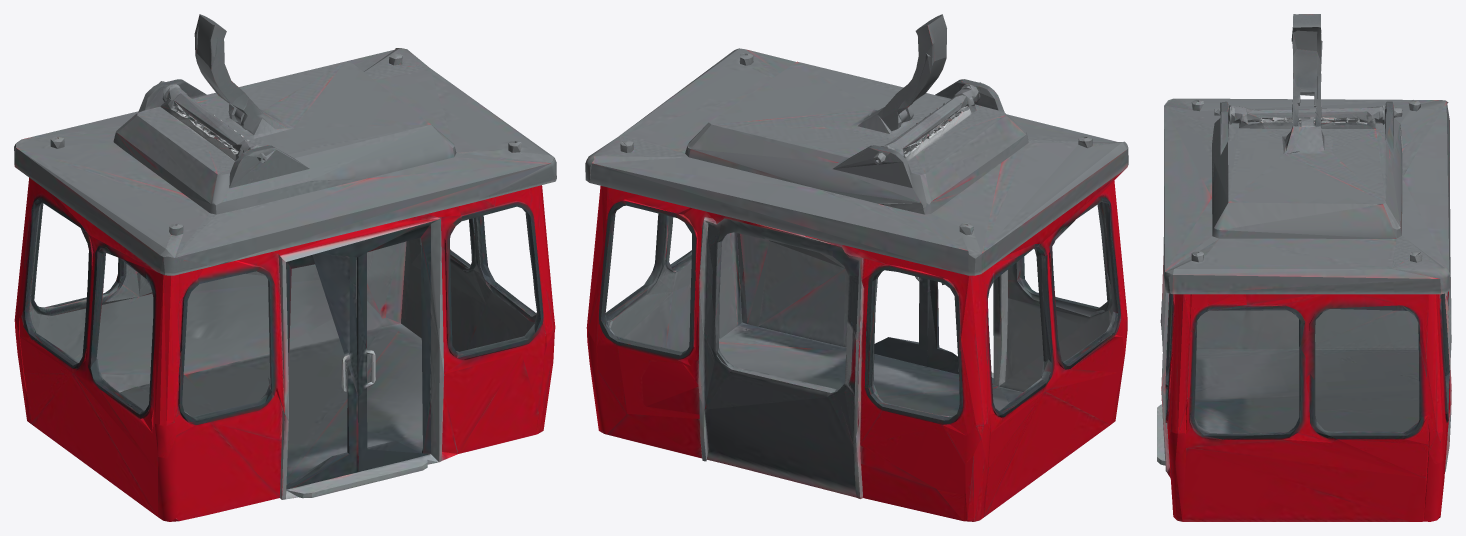
Rendered from telepherique.glb.
3 renders of one model, left to right at view 1: azimuth 30°, elevation 25°; view 2: azimuth 150°, elevation 25°; view 3: azimuth 270°, elevation 25°, orthographic. The views are drawn at different scales.
Bounding box in the file's own units: 1.87 × 1.9 × 1.3.
Materials: 1 (1 with a texture image).
